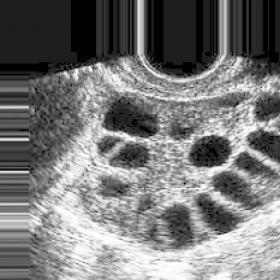PCOS: (103, 100, 161, 138), (193, 190, 236, 235), (218, 169, 256, 210), (163, 204, 194, 252), (239, 151, 273, 186), (195, 136, 228, 168), (120, 141, 150, 172), (253, 132, 280, 161), (253, 94, 280, 122), (100, 182, 135, 202), (95, 129, 119, 152), (148, 224, 162, 243), (140, 193, 154, 208)
